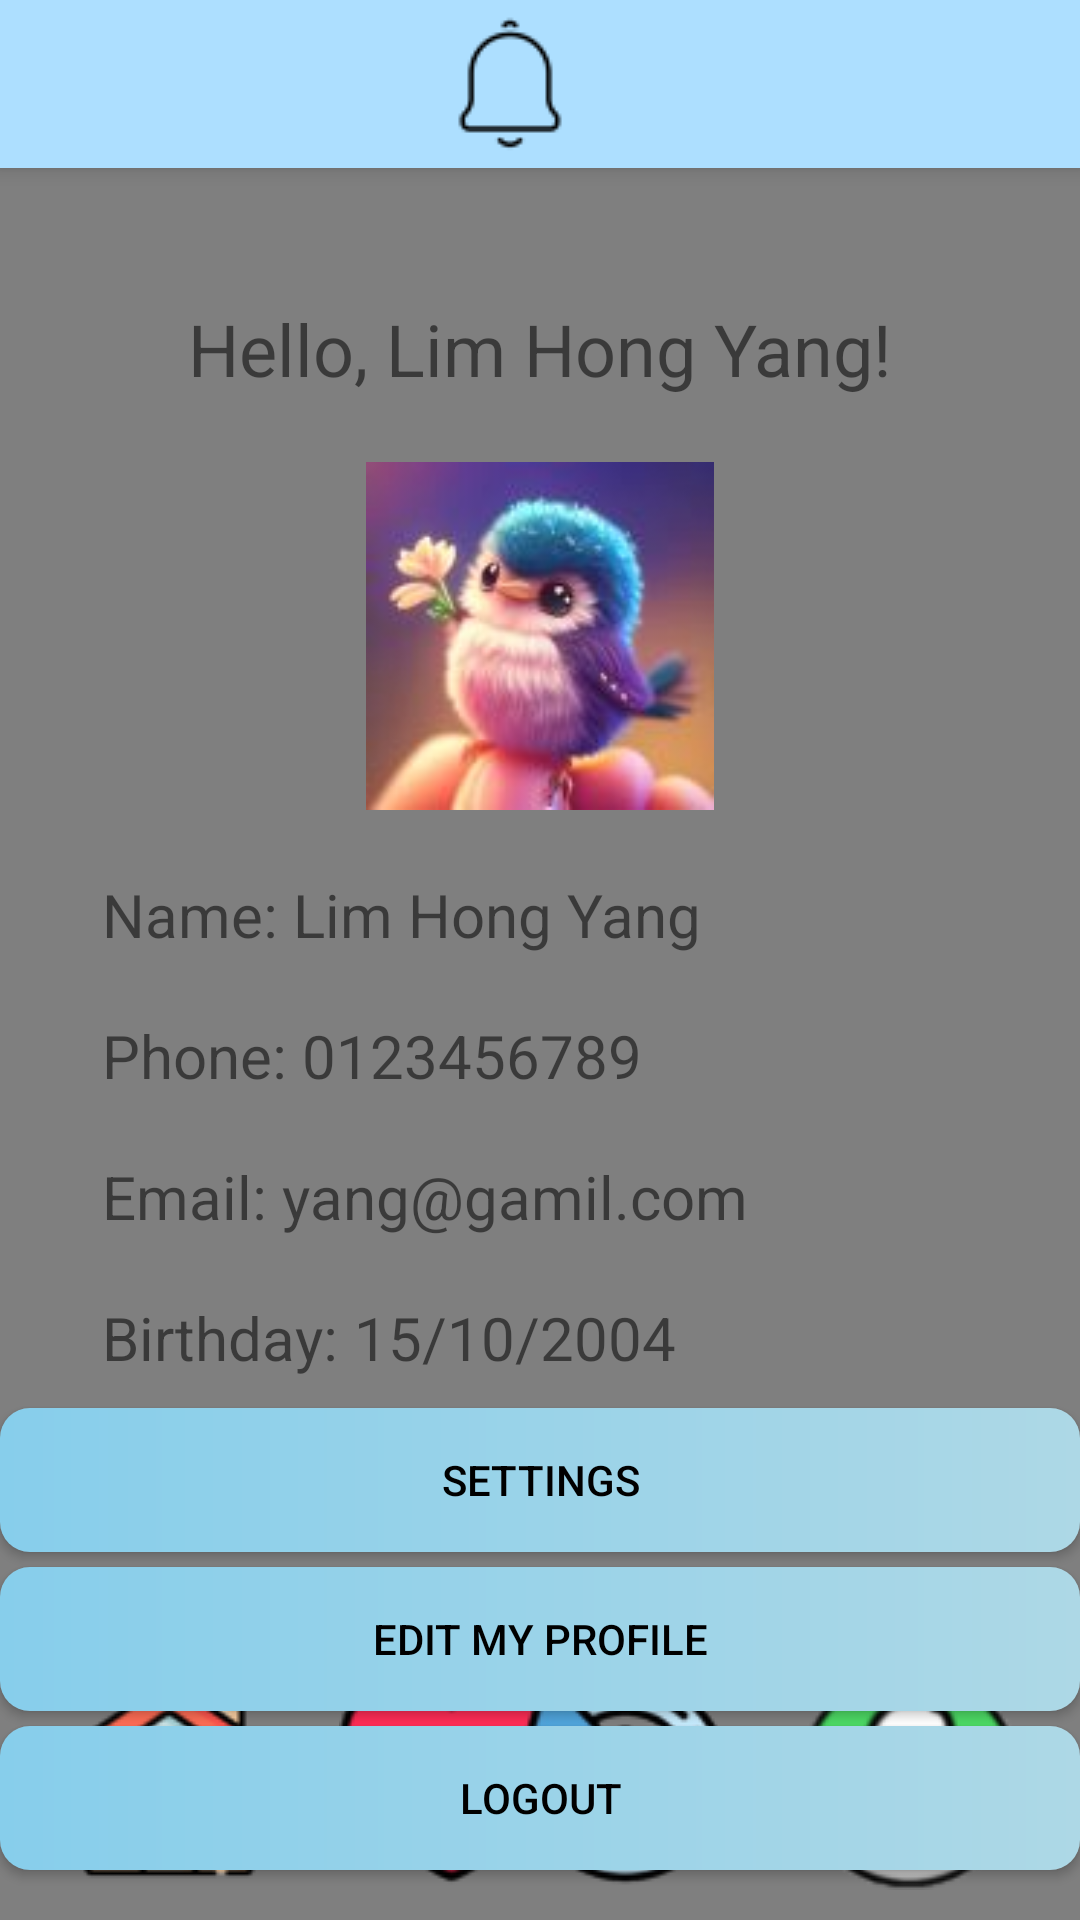

Locate icon controls on the screen. Image size 1080 x 1920, boxes as [x1,y1,x2,y2].
bird: [366,462,714,810]
notification: [458,18,562,148]
